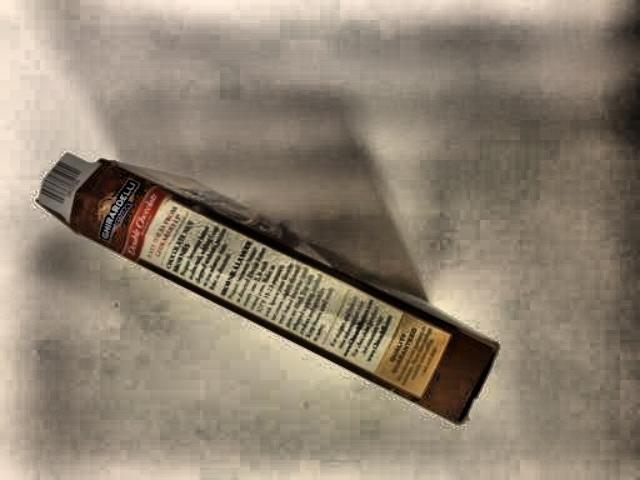Paper: (30, 140, 510, 450)
